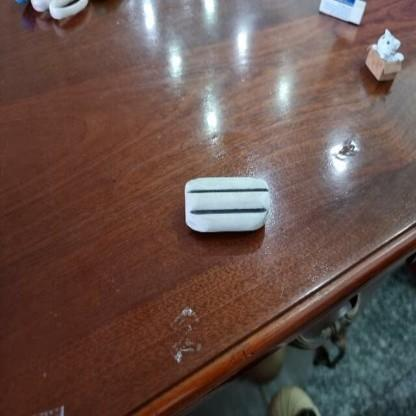not trash: (183, 172, 273, 232), (358, 29, 404, 84), (309, 0, 373, 24), (16, 0, 91, 18)
